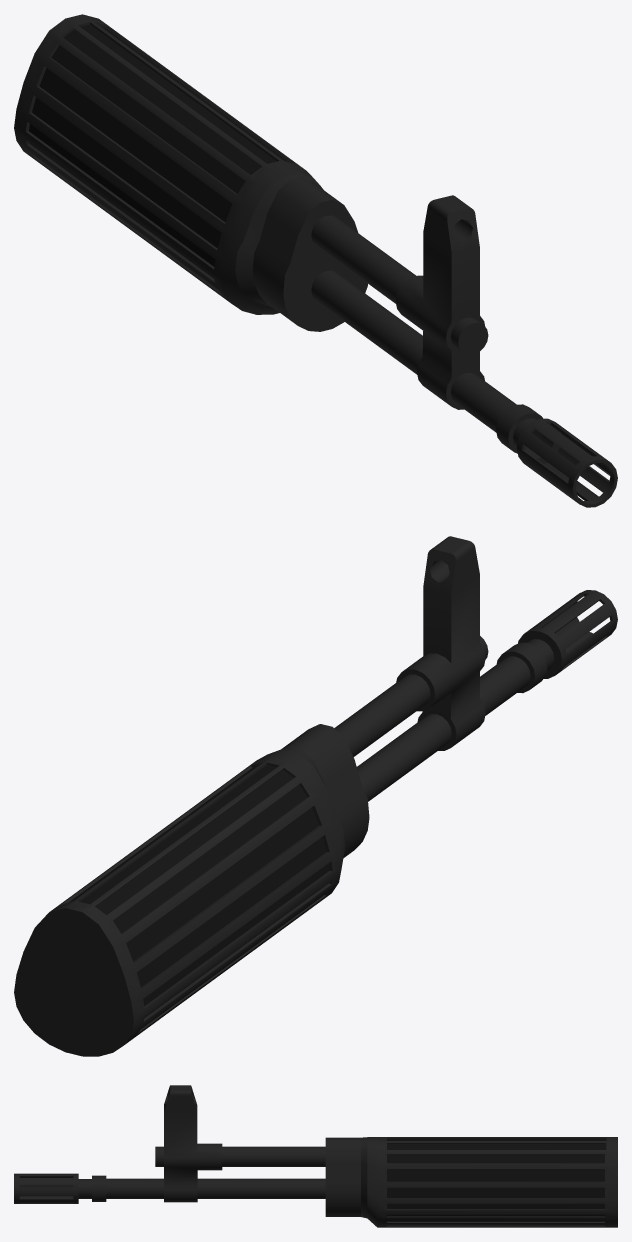
The model's file is barrel_1.fbx.
3 views of the same model, one above another, from view 1: azimuth 30°, elevation 25°; view 2: azimuth 150°, elevation 25°; view 3: azimuth 270°, elevation 25° (orthographic). The views are drawn at different scales.
Visible parts, largest first — view 1: barrel_1; view 2: barrel_1; view 3: barrel_1.
Part boxes in pixels (x1,y1,x2,y2): barrel_1: [14, 14, 617, 507]; barrel_1: [14, 536, 617, 1056]; barrel_1: [14, 1085, 617, 1227].
Size of the model in its own units: 222 by 412 by 1672.
